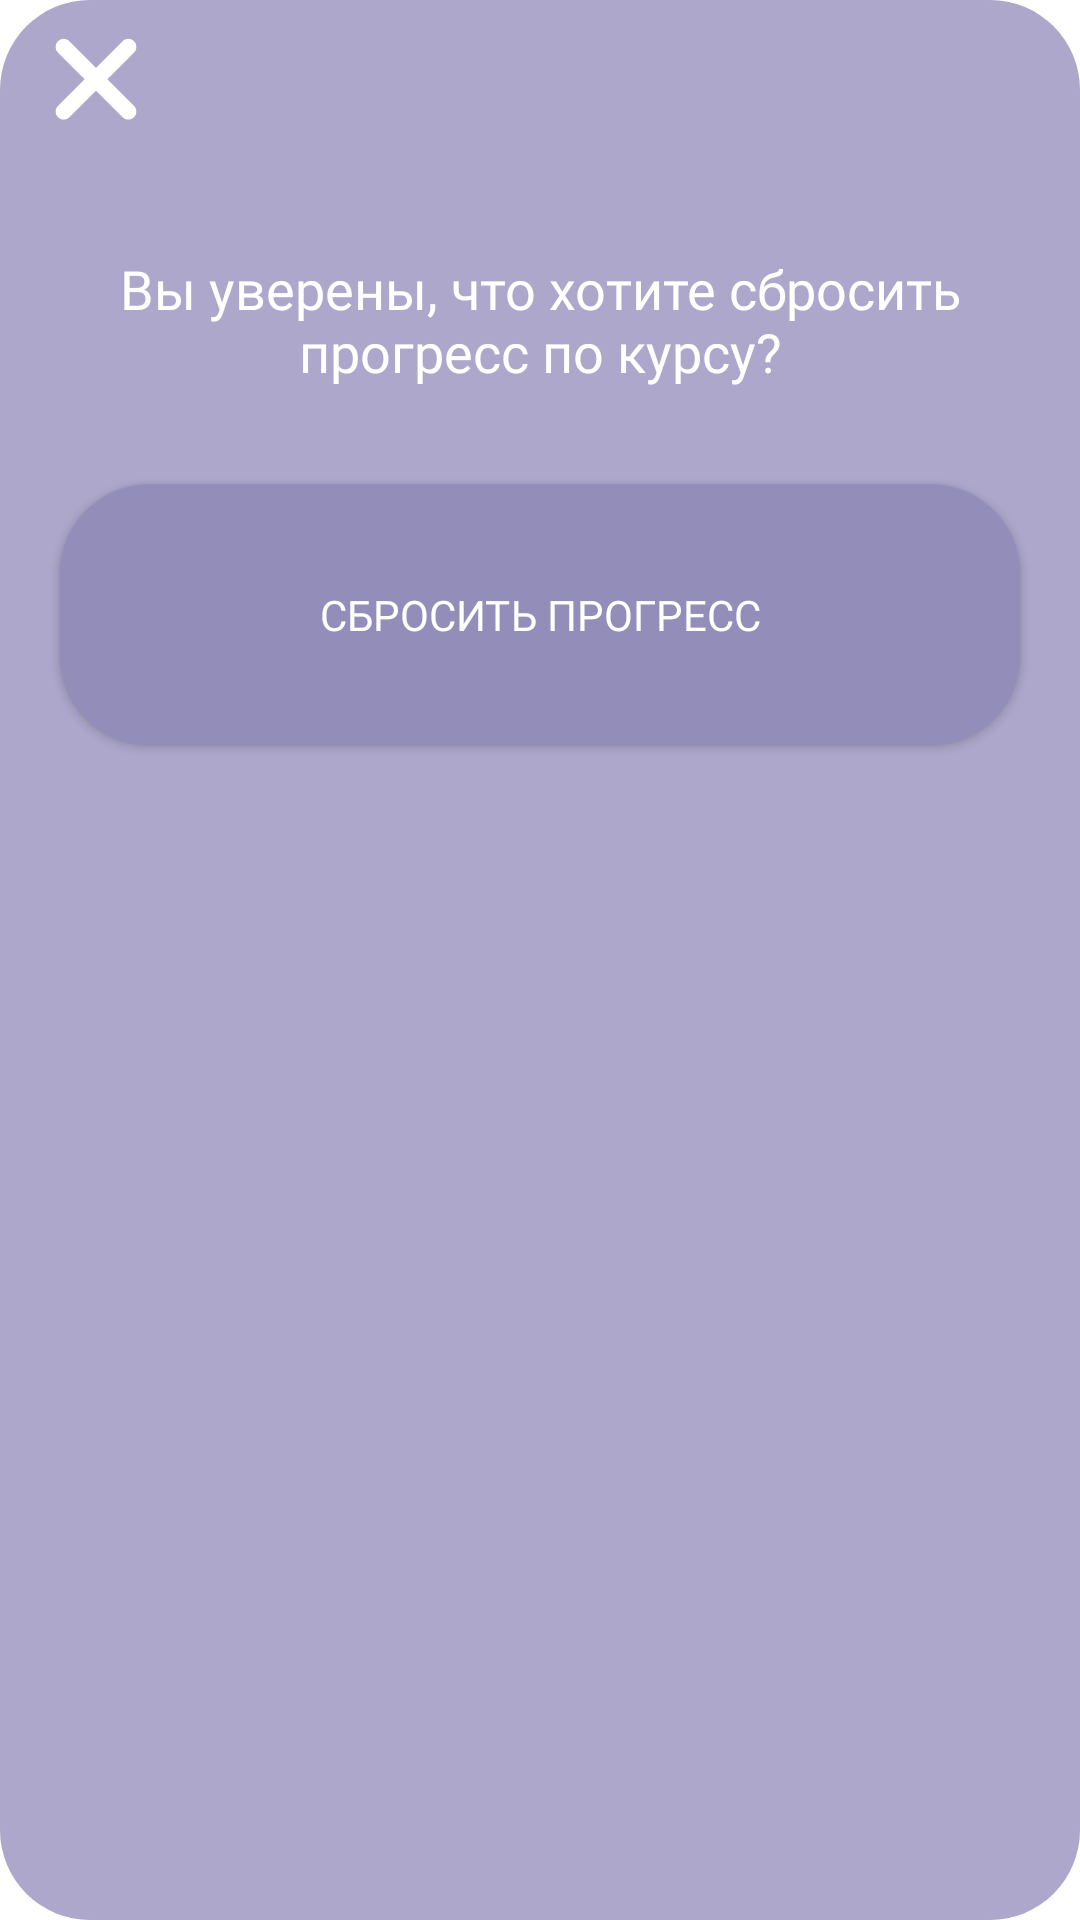

Where icons sit on this 1080px x 1920px app screen, as Rect(x1, y1, x2, y2):
cross: Rect(55, 39, 136, 120)
